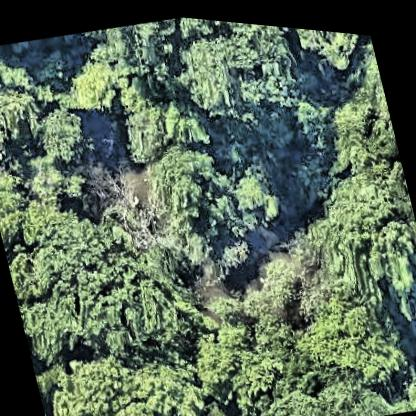tree-top: (60, 200, 202, 368), (173, 13, 311, 135), (302, 160, 416, 302), (294, 269, 412, 395), (110, 76, 223, 180), (72, 337, 213, 416), (183, 307, 287, 412), (198, 138, 286, 240), (258, 339, 366, 416), (90, 11, 181, 99), (14, 274, 97, 367), (322, 86, 402, 172), (32, 95, 96, 171), (13, 186, 86, 252), (285, 22, 377, 74), (20, 144, 93, 208), (0, 79, 47, 163), (254, 245, 307, 308), (286, 87, 323, 127)
